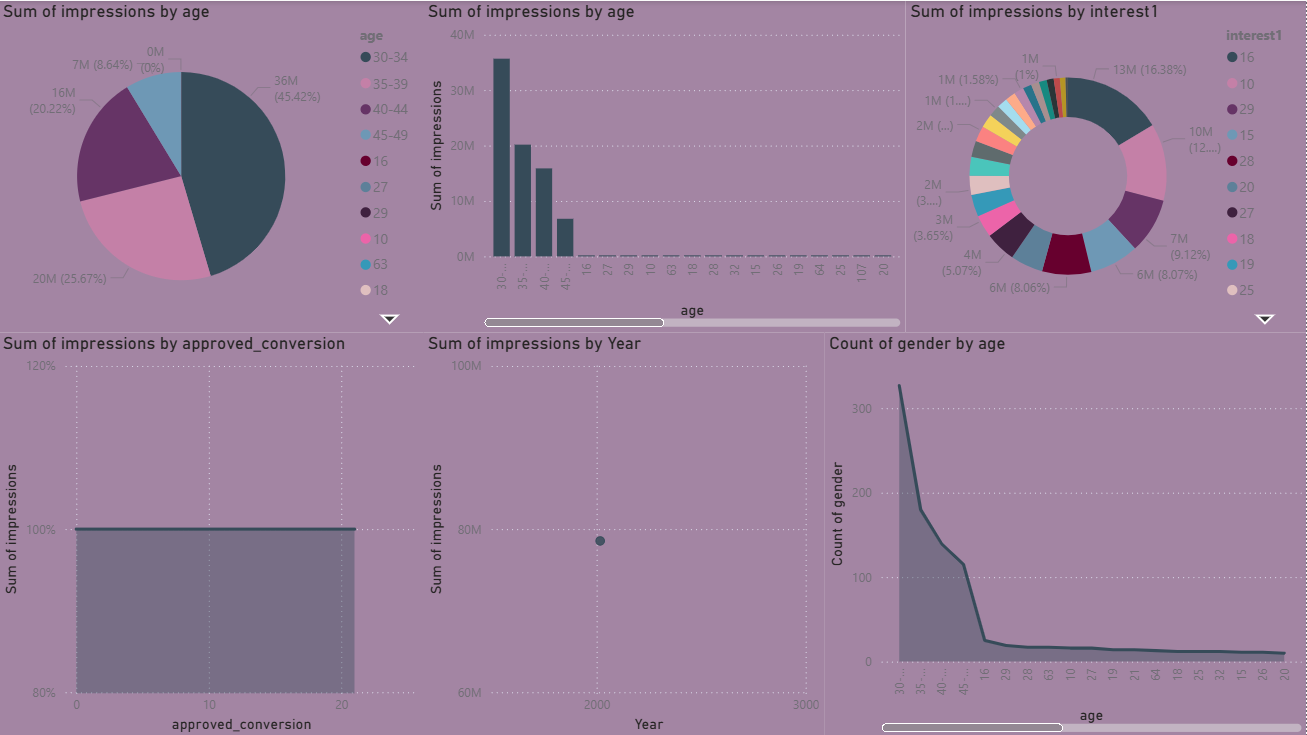

Layout of this report page (visuals, bound fields, positions):
{"tool":"powerbi","page":{"name":"Page 2","canvas":[1280,720],"ordinal":1},"visuals":[{"type":"pieChart","fields":{"Y":["Sum(data.impressions)"],"Category":["data.age"]},"box":[0,0,415.8,323.8],"z":0},{"type":"donutChart","fields":{"Category":["data.interest1"],"Y":["Sum(data.impressions)"]},"box":[887.8,0,392.5,323.8],"z":1},{"type":"clusteredColumnChart","fields":{"Y":["Sum(data.impressions)"],"Category":["data.age"]},"box":[415.8,0,472,323.8],"z":2},{"type":"hundredPercentStackedAreaChart","fields":{"Y":["Sum(data.impressions)"],"Category":["data.approved_conversion"]},"box":[0,324.1,415.8,396.2],"z":3},{"type":"areaChart","fields":{"Category":["data.age"],"Y":["CountNonNull(data.gender)"]},"box":[808.3,324.1,472,396.2],"z":4},{"type":"scatterChart","fields":{"X":["data.reporting_end.Variation.Date Hierarchy.Year","data.reporting_end.Variation.Date Hierarchy.Quarter","data.reporting_end.Variation.Date Hierarchy.Month","data.reporting_end.Variation.Date Hierarchy.Day"],"Y":["Sum(data.impressions)"]},"box":[415.8,324.1,392.5,396.2],"z":5}]}

Visuals, with their boxes in screenshot pixels (x1, y1, x2, y2), scaled from the page's 1280x720 canvas onto the 1307x735 screenshot:
pieChart - Sum(data.impressions) x data.age: 0:0:425:331
donutChart - data.interest1 x Sum(data.impressions): 907:0:1306:331
clusteredColumnChart - Sum(data.impressions) x data.age: 425:0:907:331
hundredPercentStackedAreaChart - Sum(data.impressions) x data.approved_conversion: 0:331:425:734
areaChart - data.age x CountNonNull(data.gender): 825:331:1306:734
scatterChart - data.reporting_end.Variation.Date Hierarchy.Year x data.reporting_end.Variation.Date Hierarchy.Quarter: 425:331:825:734
